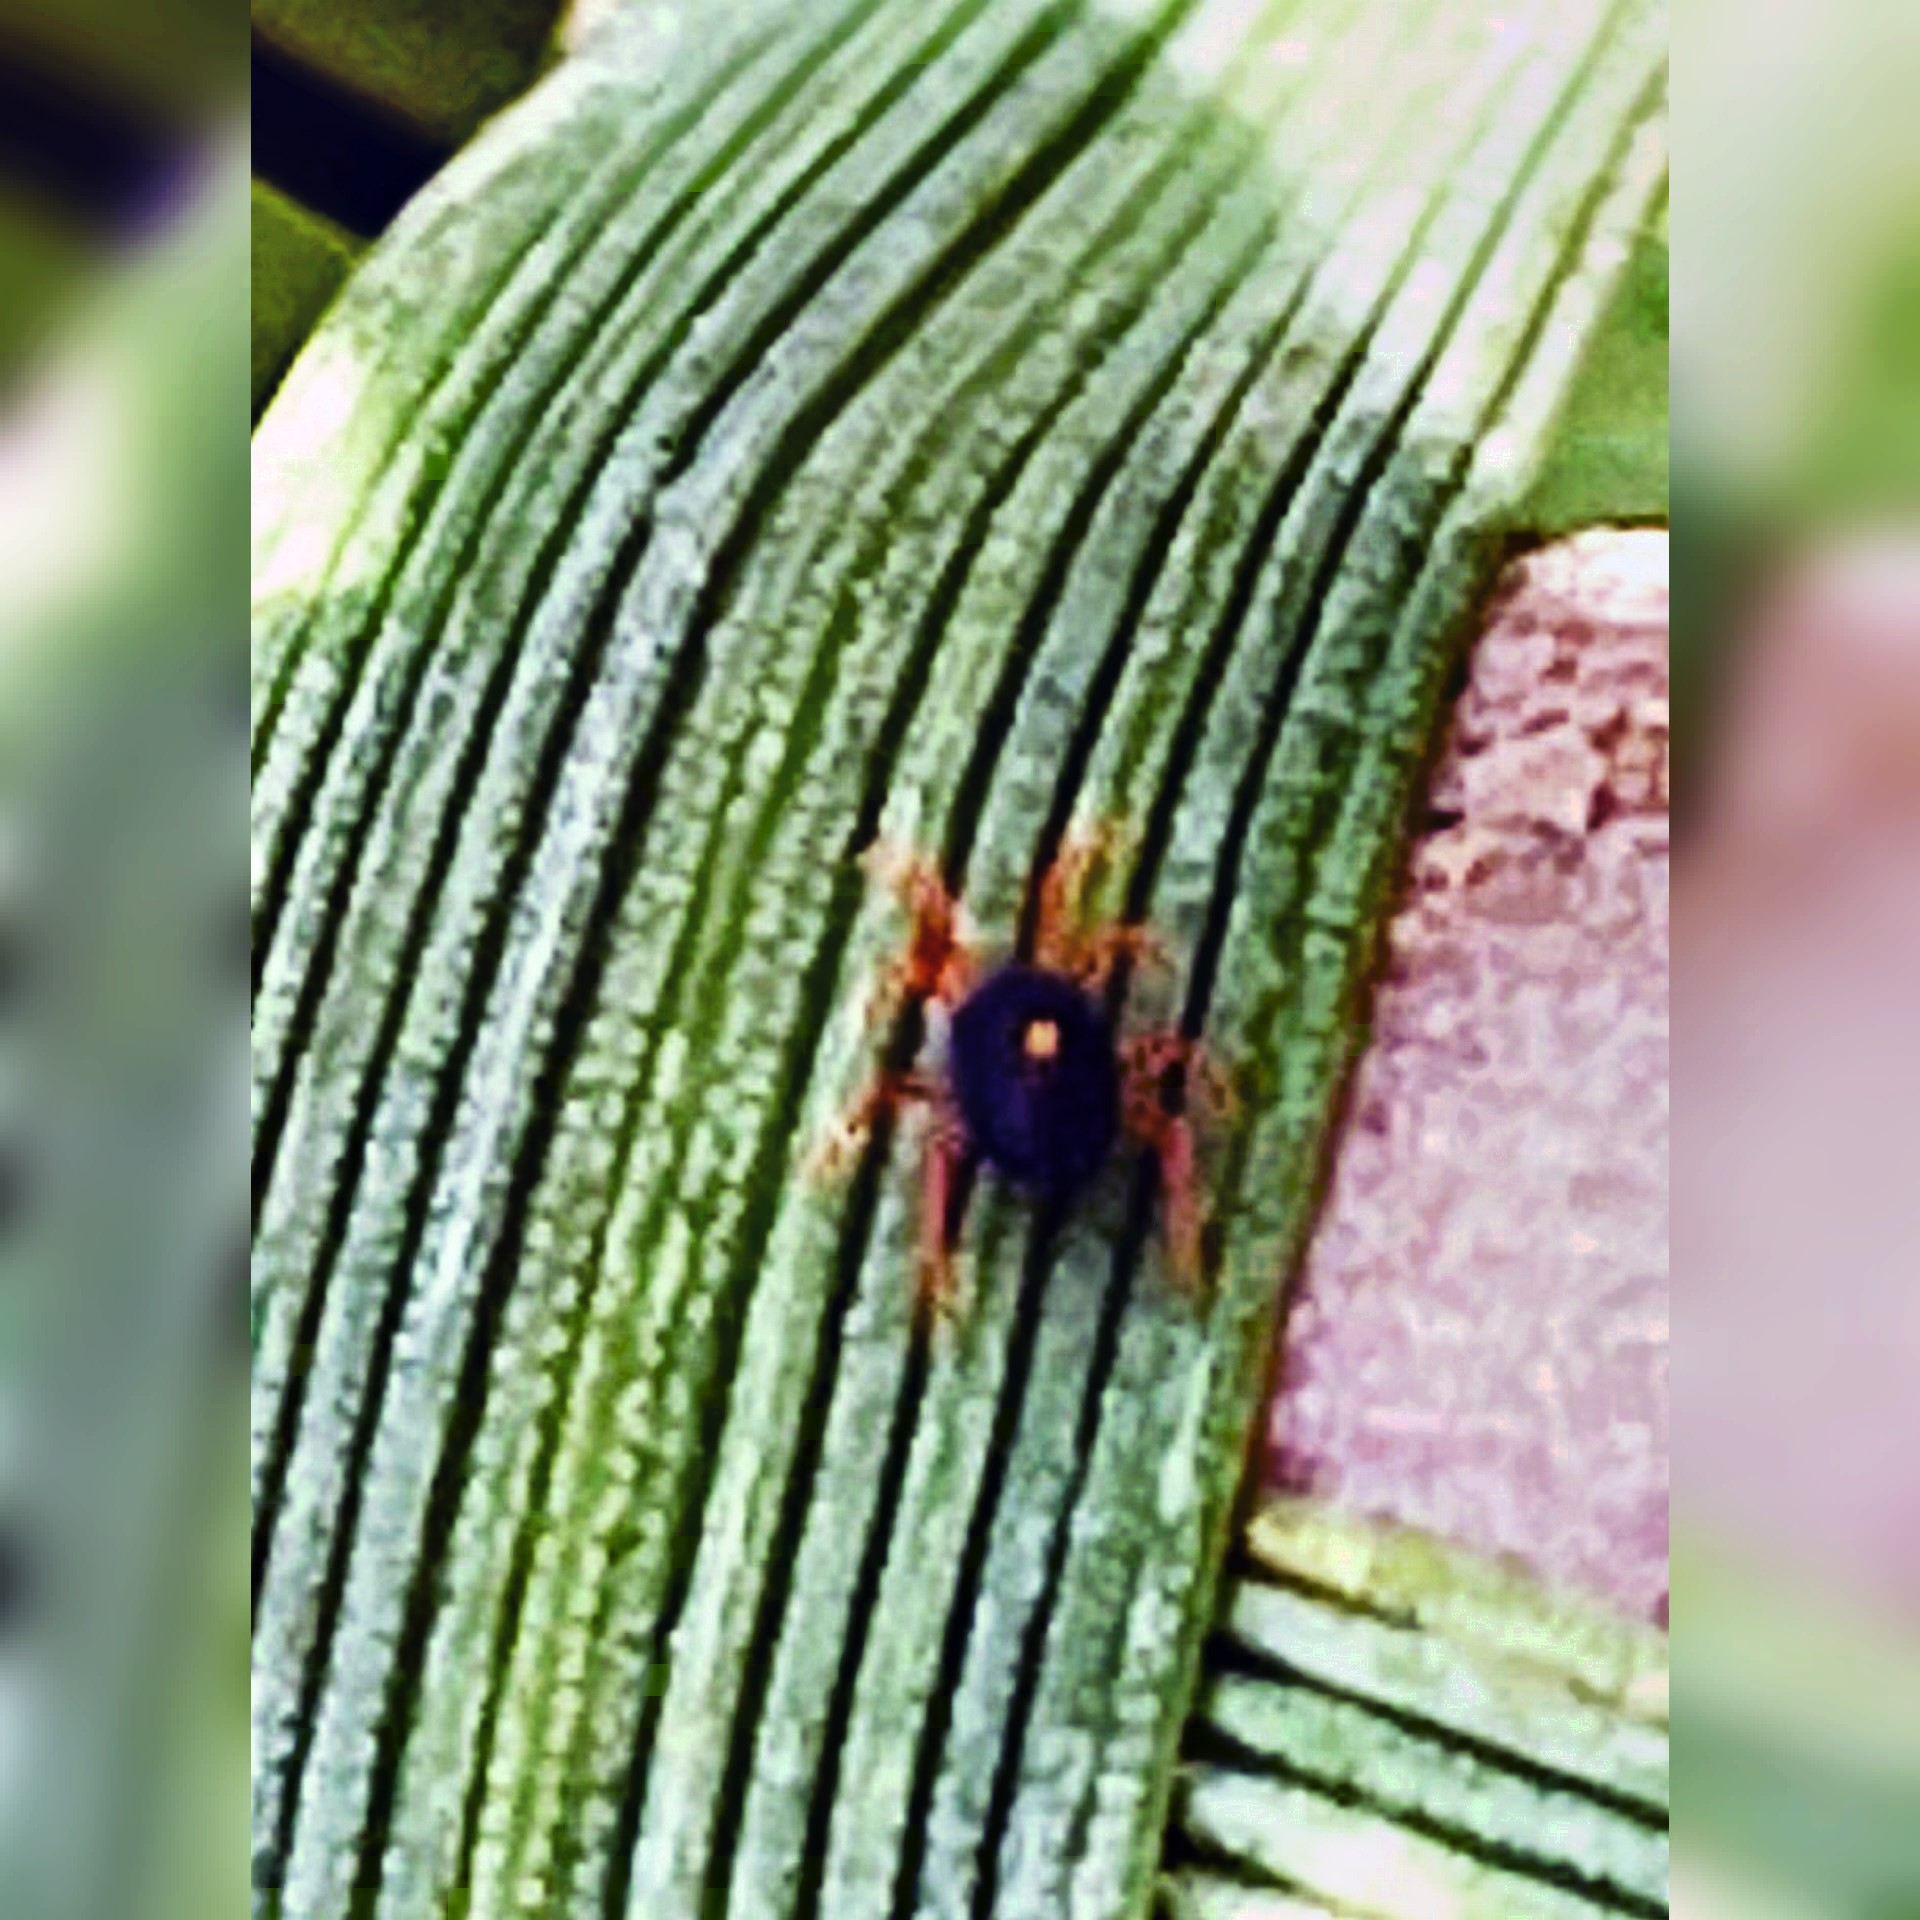Wheat Red Spider: (809, 811, 1264, 1333)
